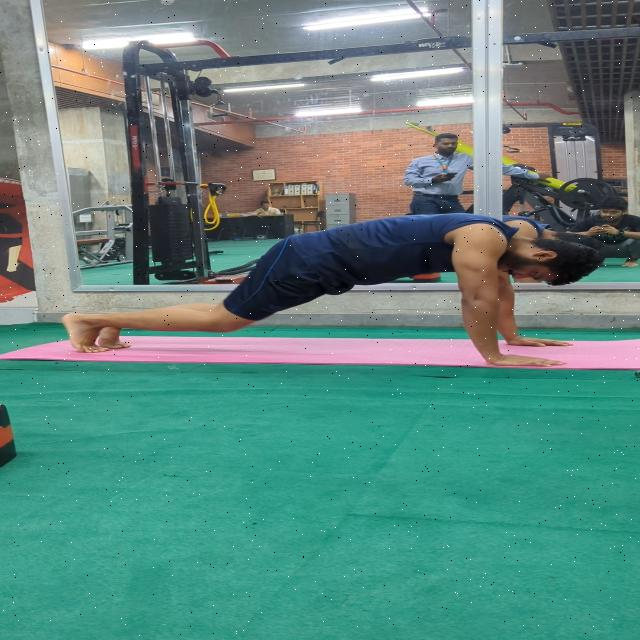Normal_MountainClimbers: (36, 212, 608, 388)
